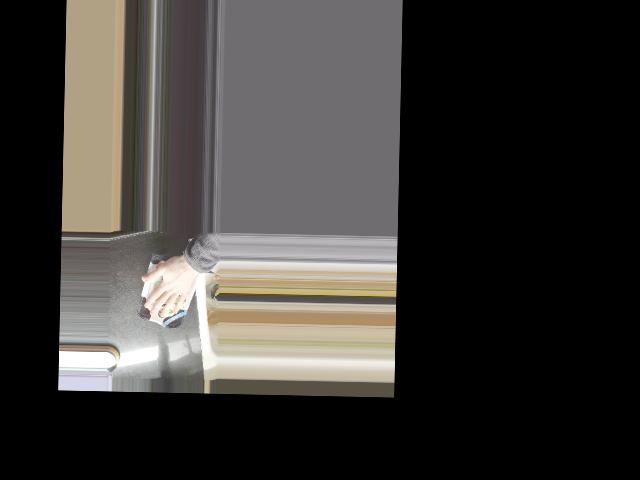cheese: (135, 253, 203, 331)
